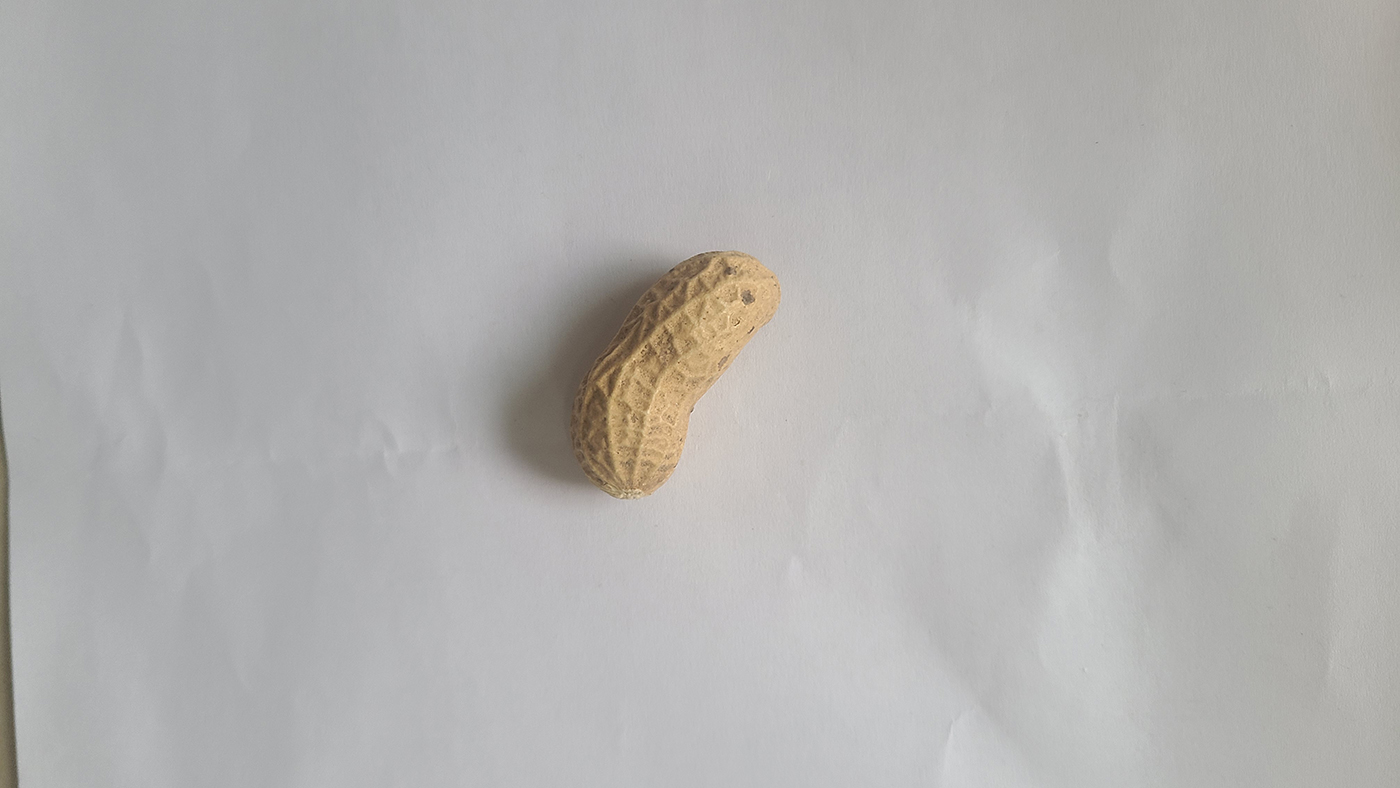h: (569, 246, 779, 496)
